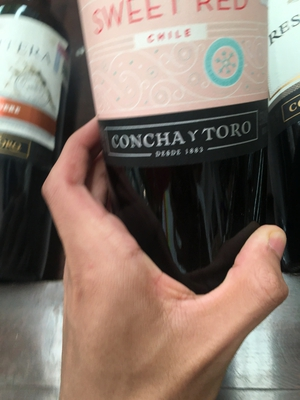reservado sweet red: (76, 2, 284, 310)
